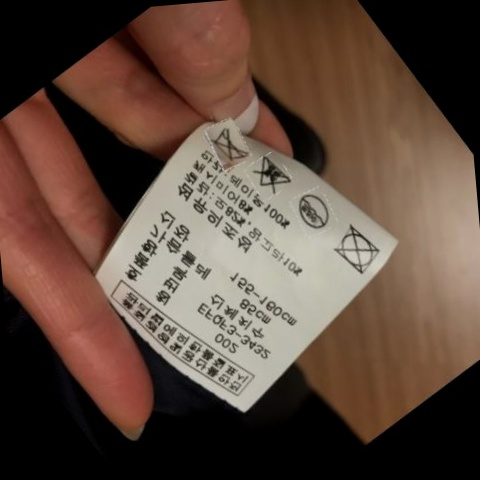DN_dry_clean: (291, 190, 331, 232)
DN_tumble_dry: (330, 226, 379, 274)
DN_wash: (207, 124, 248, 167)
non_chlorine_bleach: (255, 155, 291, 192)
